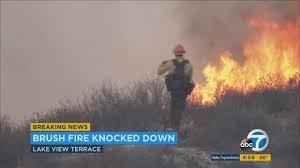fire: (187, 10, 299, 103)
